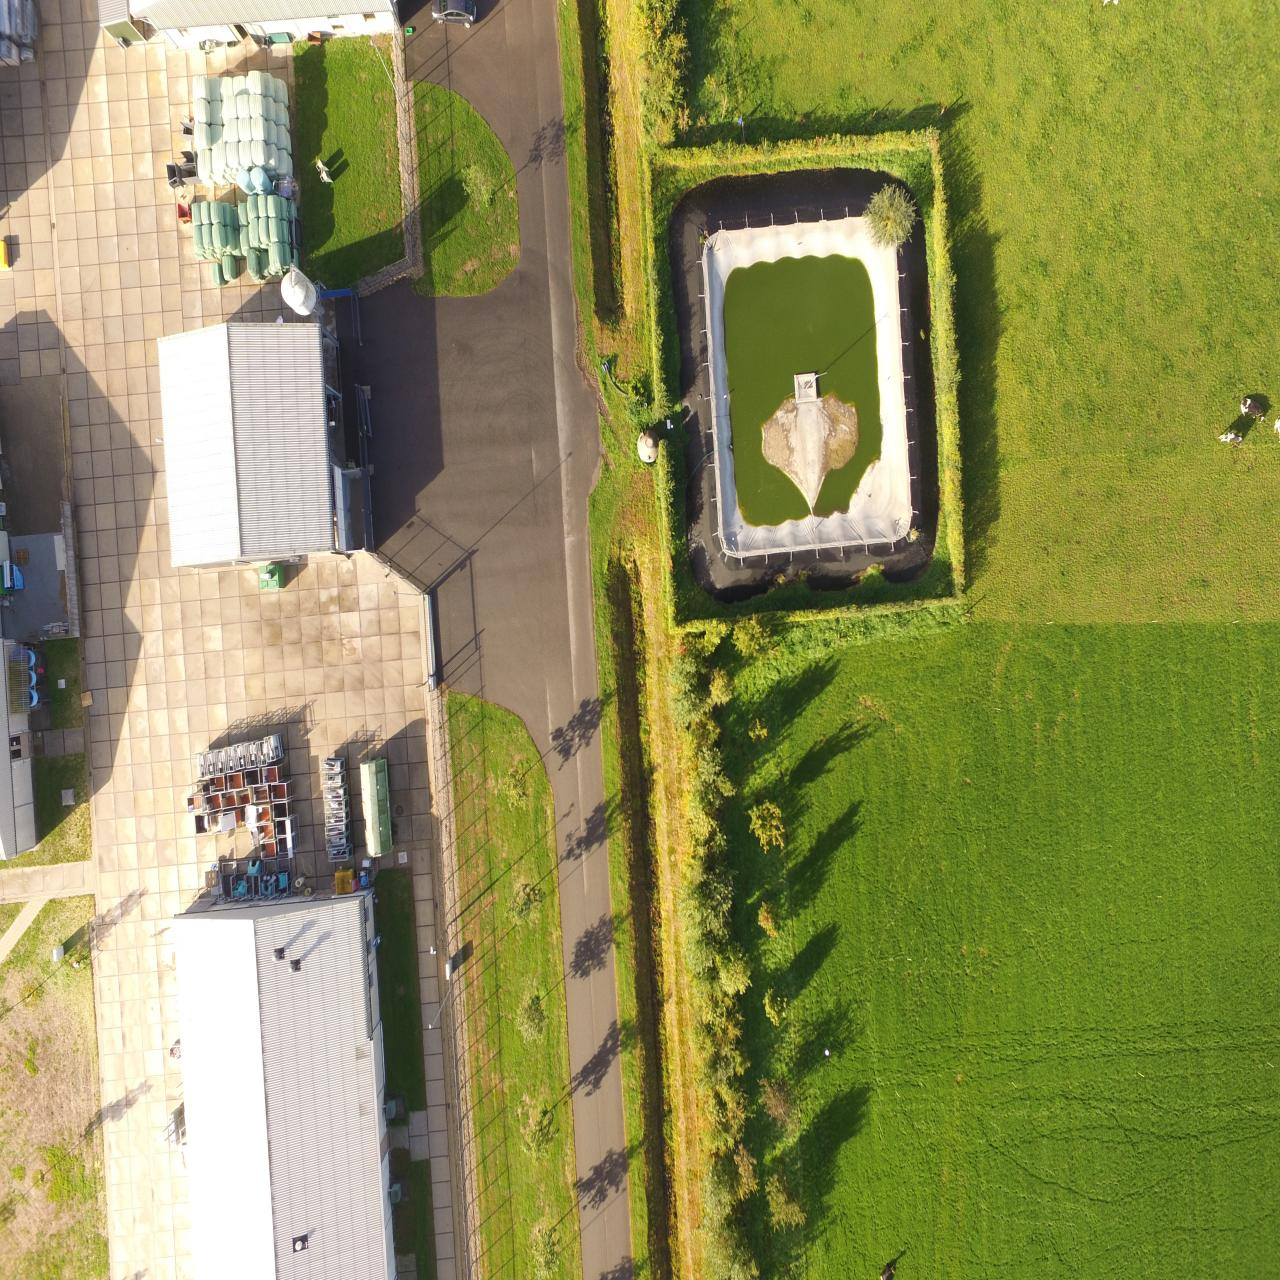cow: (1237, 395, 1268, 424), (1214, 428, 1247, 452)
